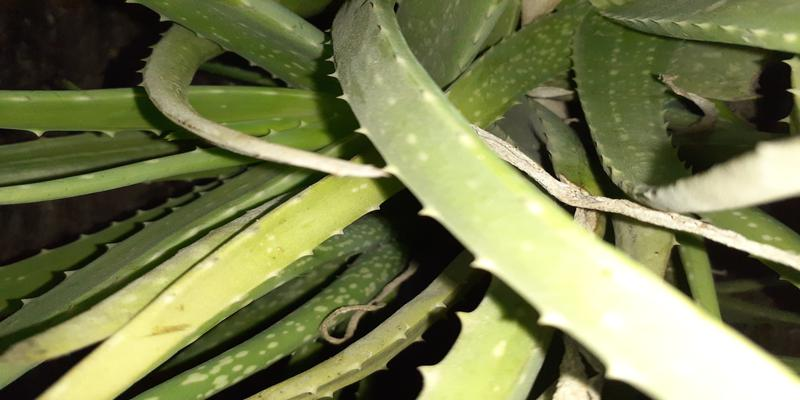Aloevera: (159, 25, 705, 373)
